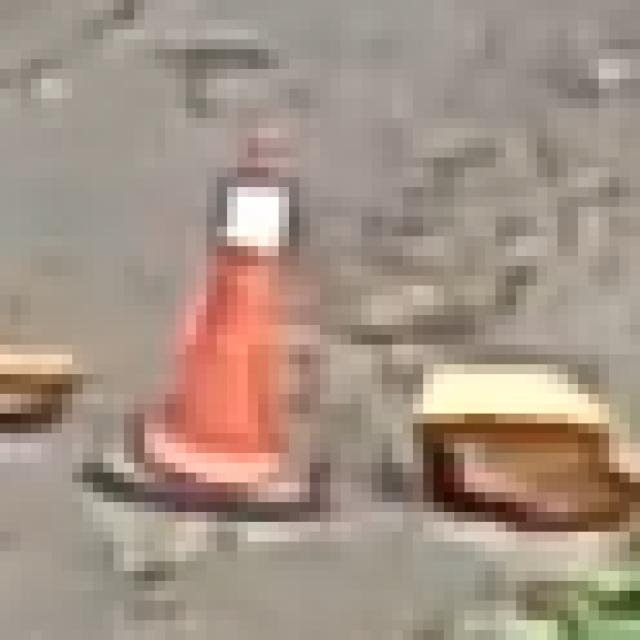small_cone: (124, 134, 358, 556)
